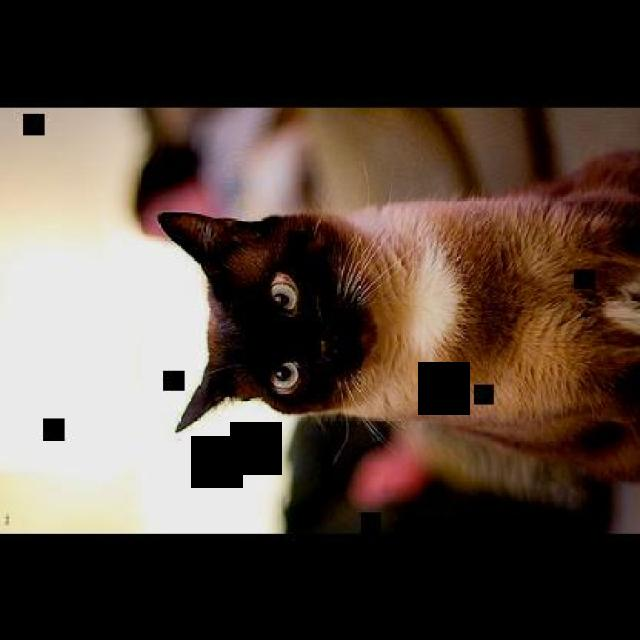unauthorized: (156, 146, 638, 529)
